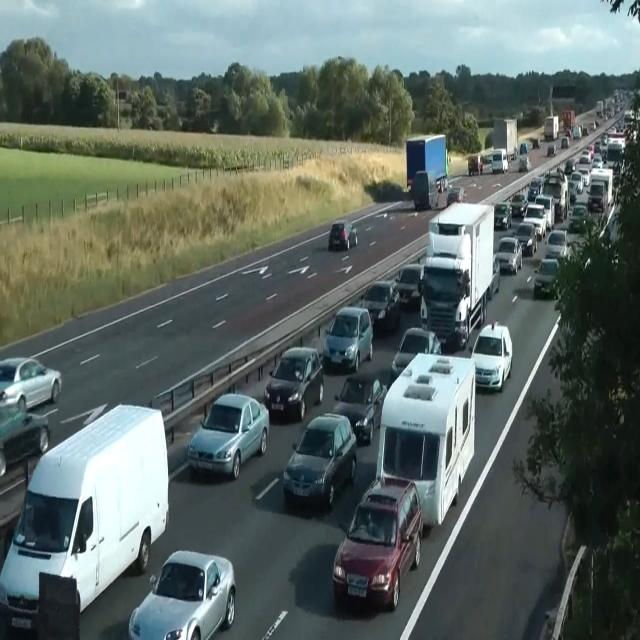bus: (332, 474, 423, 612), (128, 549, 236, 639), (187, 392, 269, 480), (282, 412, 356, 509), (264, 345, 324, 421), (332, 376, 387, 445), (0, 402, 50, 477), (0, 356, 62, 414), (323, 306, 373, 372), (470, 320, 512, 392), (391, 326, 442, 382), (359, 279, 401, 333), (395, 263, 425, 308), (534, 256, 562, 299), (494, 236, 522, 274), (328, 220, 358, 250), (522, 204, 546, 239), (514, 222, 537, 256), (534, 194, 555, 230), (545, 229, 569, 259), (587, 182, 605, 214), (487, 254, 499, 299), (569, 204, 588, 230), (494, 202, 512, 229), (510, 192, 528, 216), (446, 187, 466, 206), (570, 170, 584, 193), (528, 178, 542, 201), (567, 180, 577, 208), (518, 154, 531, 172), (564, 156, 576, 174), (590, 154, 602, 169), (579, 148, 590, 164), (546, 144, 556, 156), (561, 136, 569, 148)
minibus: (0, 403, 170, 638), (376, 352, 476, 527), (419, 201, 495, 350), (405, 133, 449, 194), (541, 169, 569, 221), (411, 170, 447, 210), (587, 167, 613, 213), (492, 117, 518, 161), (606, 138, 626, 170), (492, 148, 508, 174), (544, 116, 558, 140), (468, 154, 482, 175), (563, 109, 575, 130)
